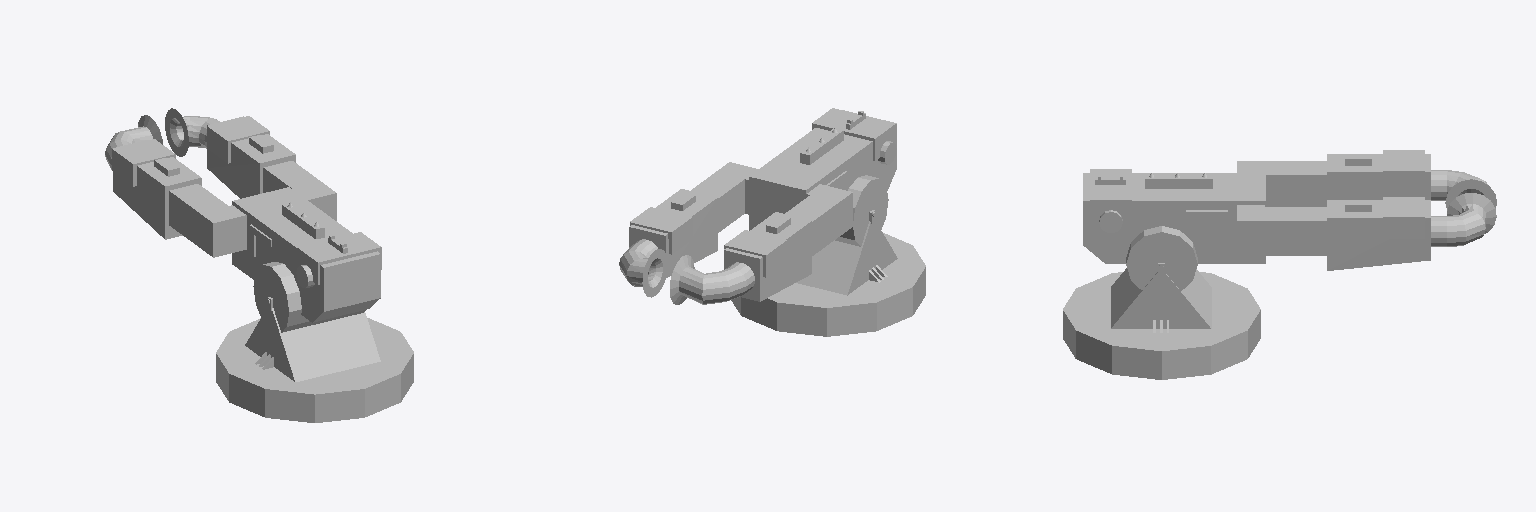
File: Turrets4.obj
3 views of the same model, side by side, from view 1: azimuth 30°, elevation 25°; view 2: azimuth 150°, elevation 25°; view 3: azimuth 270°, elevation 25° (orthographic).
Visible parts, largest first — view 1: Turret4; view 2: Turret4; view 3: Turret4.
Boxes of the visible parts, x1=… form: Turret4: x1=105, y1=108, x2=413, y2=422; Turret4: x1=619, y1=108, x2=925, y2=336; Turret4: x1=1063, y1=150, x2=1496, y2=379.
Bounding box in the file's own units: 2.67 × 2.45 × 5.86.